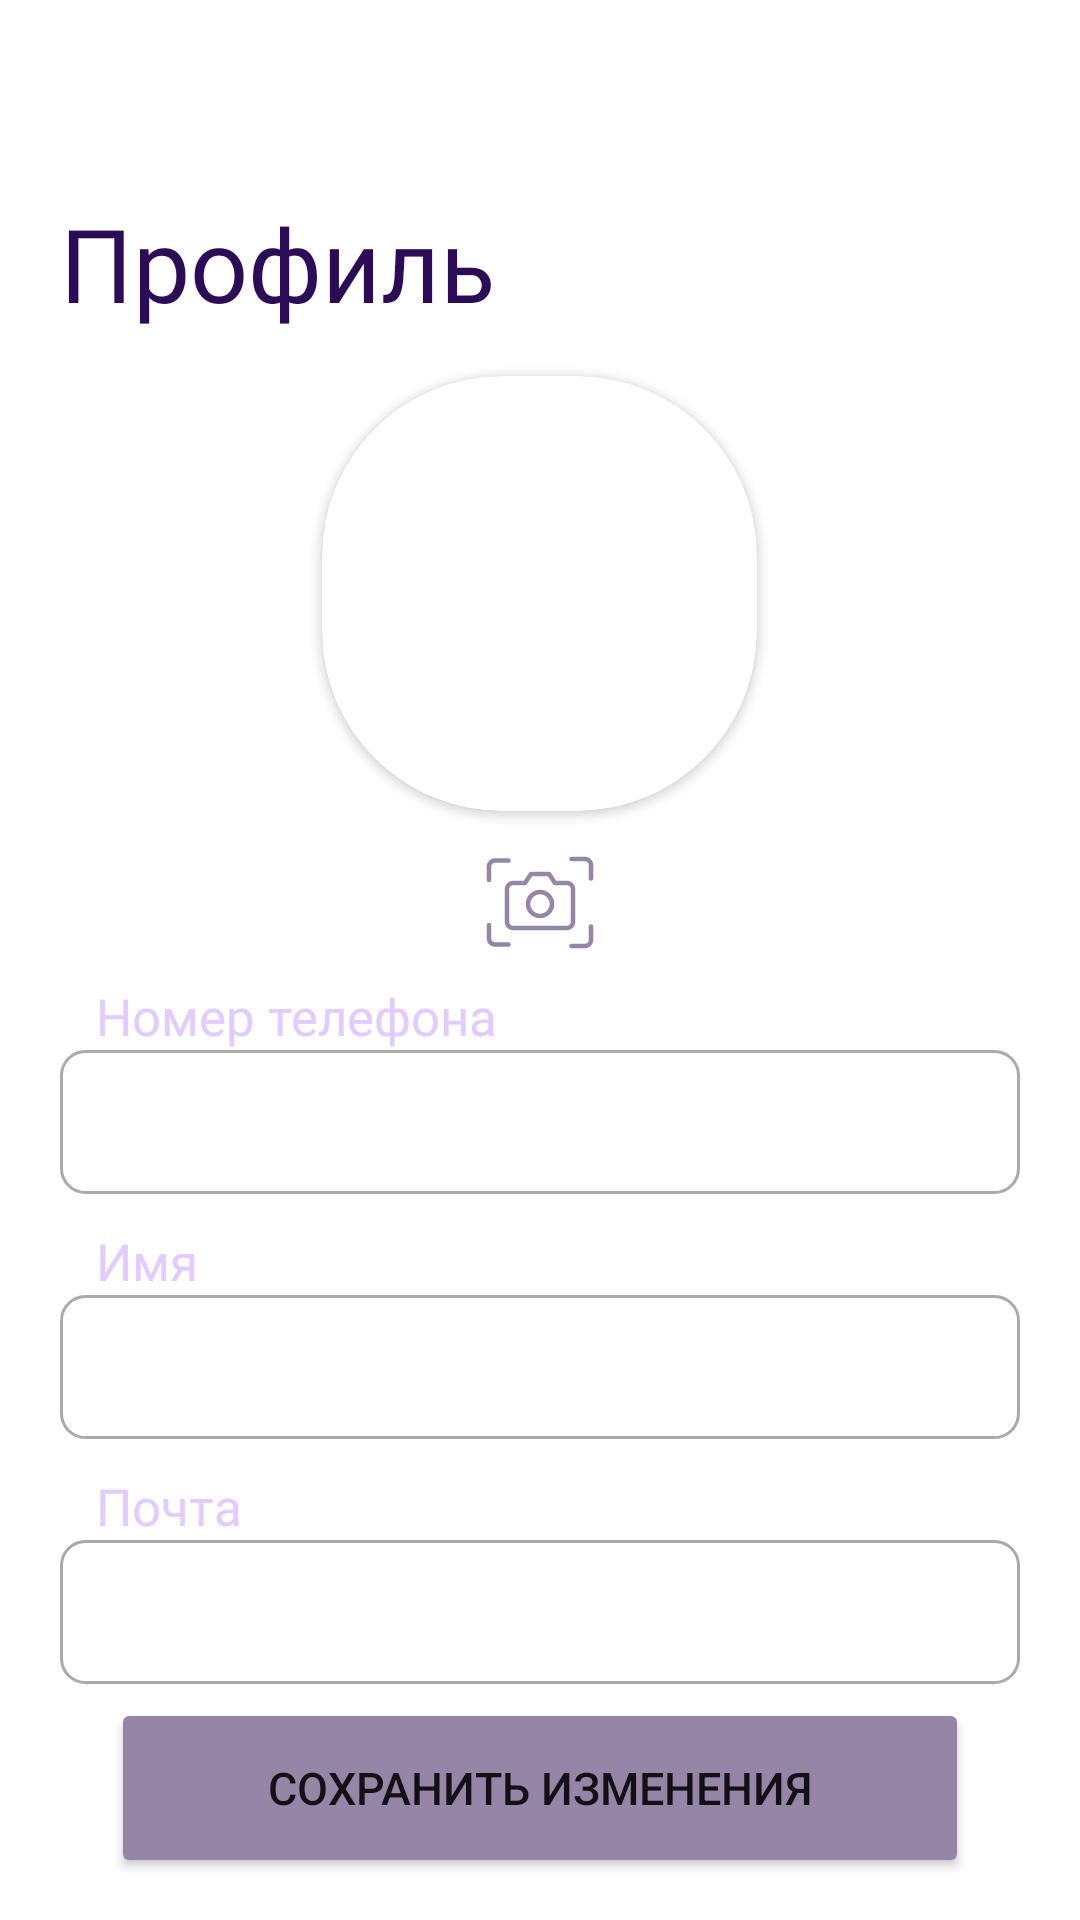

Where icons sit on this 1080px×1920px app screen, as box(x1, y1, x2, y2):
take photo: box(486, 856, 594, 949)
